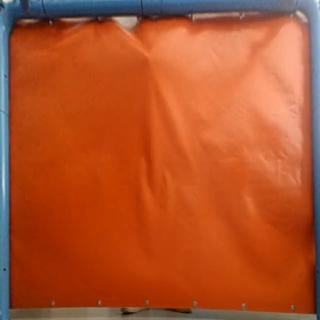Hit-hRxx: (141, 51, 156, 64)
